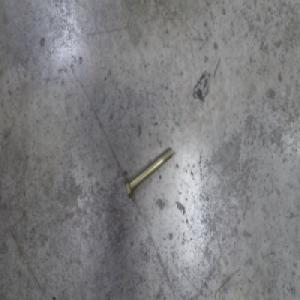Bolt: (124, 143, 173, 200)
